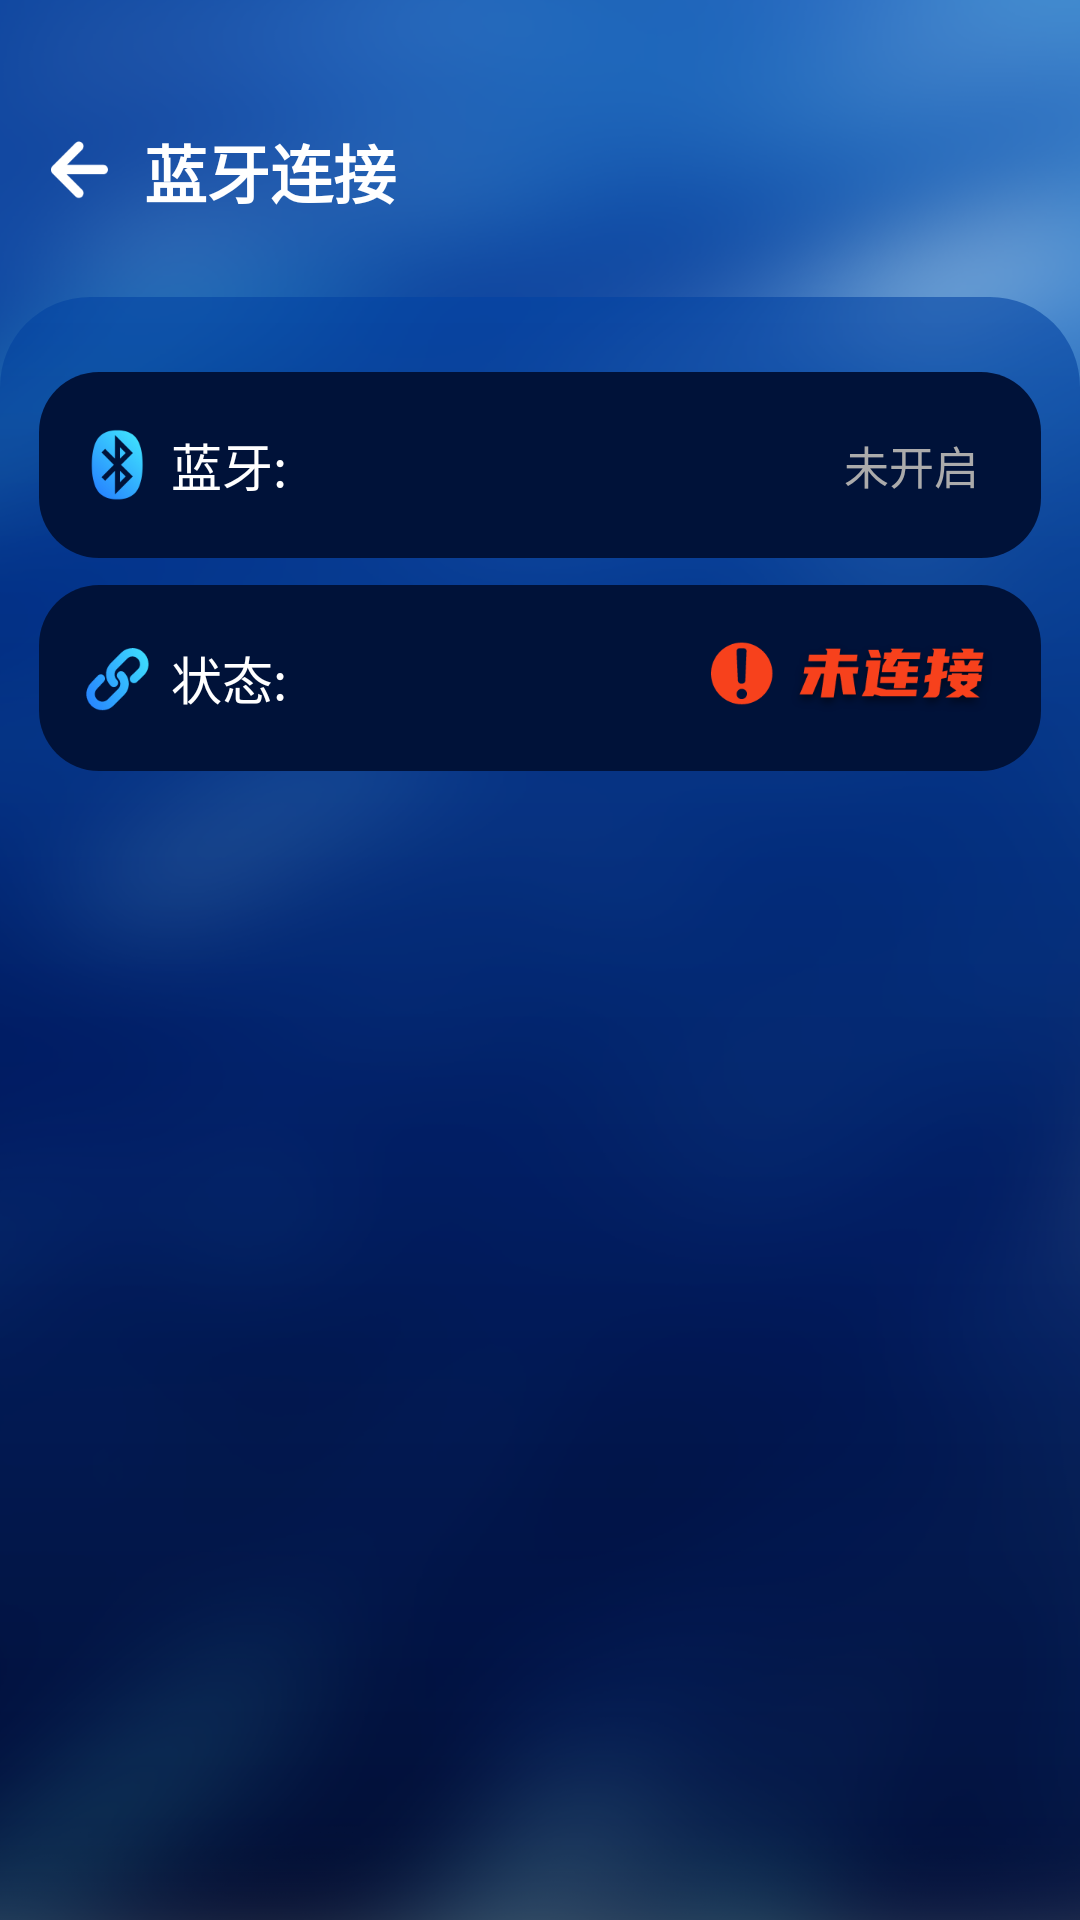

Locate icon controls on the screen. Image size 1080*1920, boxes as (x1, y1, x2, y2).
back: (51, 141, 108, 198)
setconnect: (86, 648, 149, 711)
